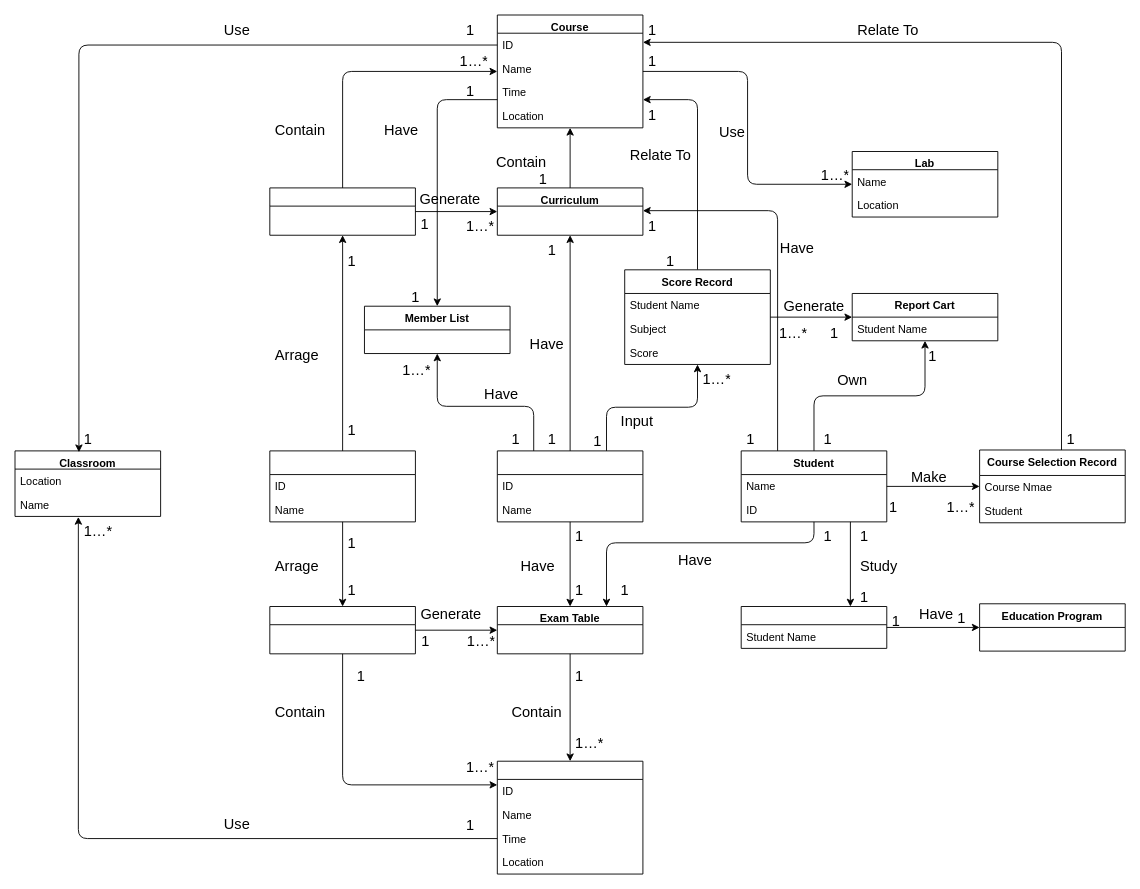
The diagram is 1140 pixels wide and 889 high, and some of its shapes have lost their labels. The box of each missing label's shape, as (x1, y1, x2, y2) in pixels:
Acdemic Dean: (269, 450, 415, 522)
Course Arrangement: (269, 187, 415, 235)
Exam: (496, 760, 643, 874)
Exam Arrangement: (269, 606, 415, 654)
Teacher: (496, 450, 643, 522)
University Major: (740, 606, 887, 648)
